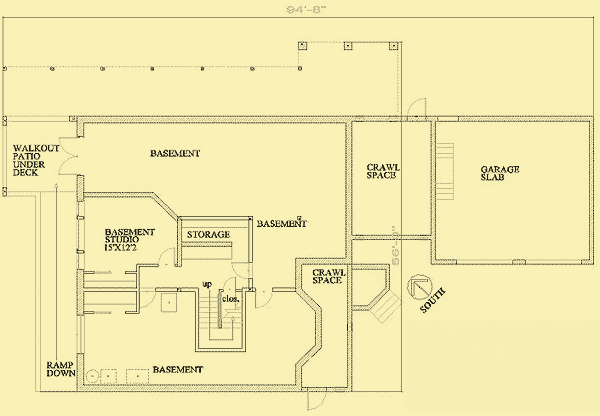door: (58, 133, 86, 179), (304, 383, 330, 412), (252, 284, 279, 311), (405, 95, 430, 121), (228, 260, 255, 281), (156, 245, 177, 270), (137, 287, 159, 310), (223, 273, 236, 291)
stairs: (193, 287, 247, 355), (366, 288, 407, 327), (433, 141, 458, 203)
